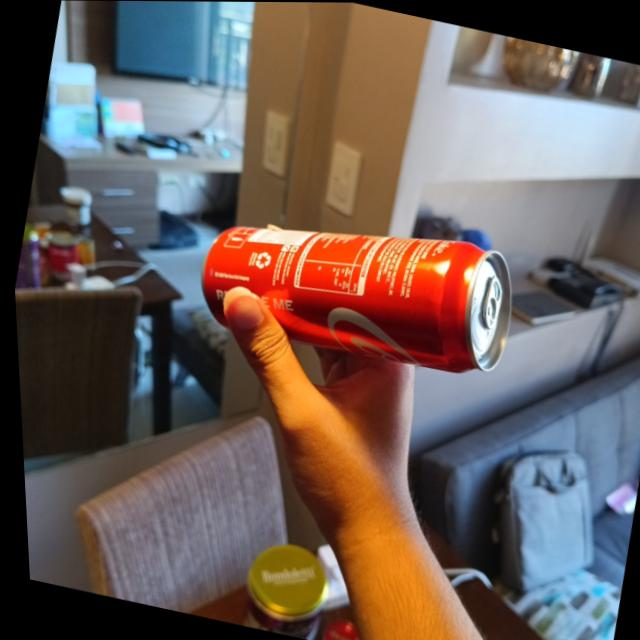coke: (184, 188, 524, 389)
